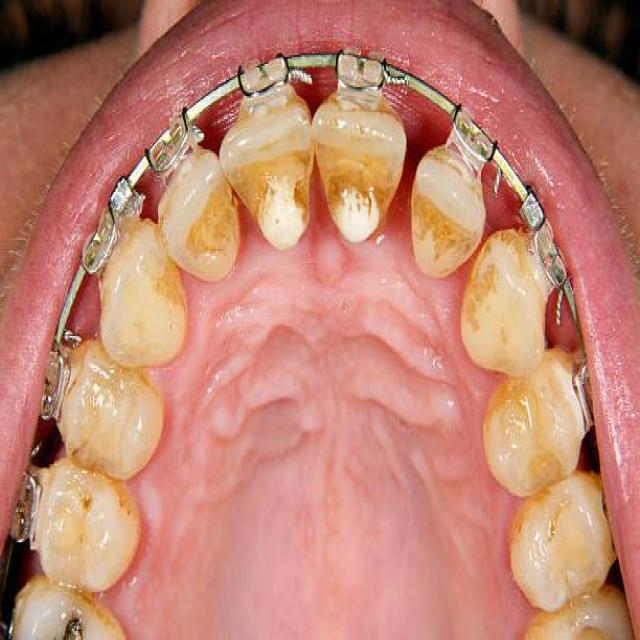caries: (321, 133, 398, 253), (254, 148, 315, 258), (56, 600, 93, 640)
